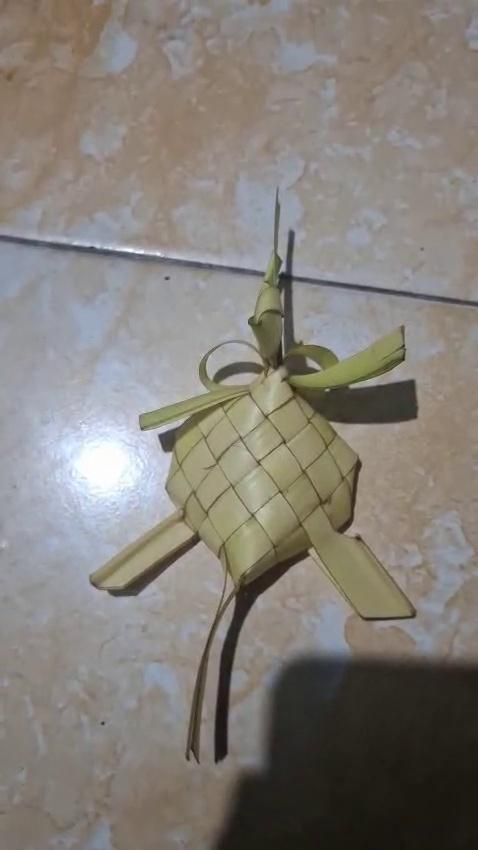Tipat Dampulan: (93, 182, 432, 769)
